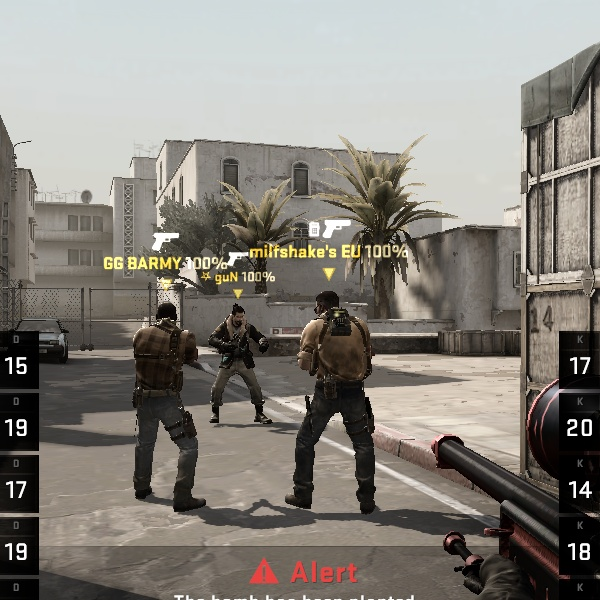t_body: (270, 285, 397, 513), (104, 297, 214, 504)
t_head: (304, 285, 348, 329), (145, 297, 186, 338)
